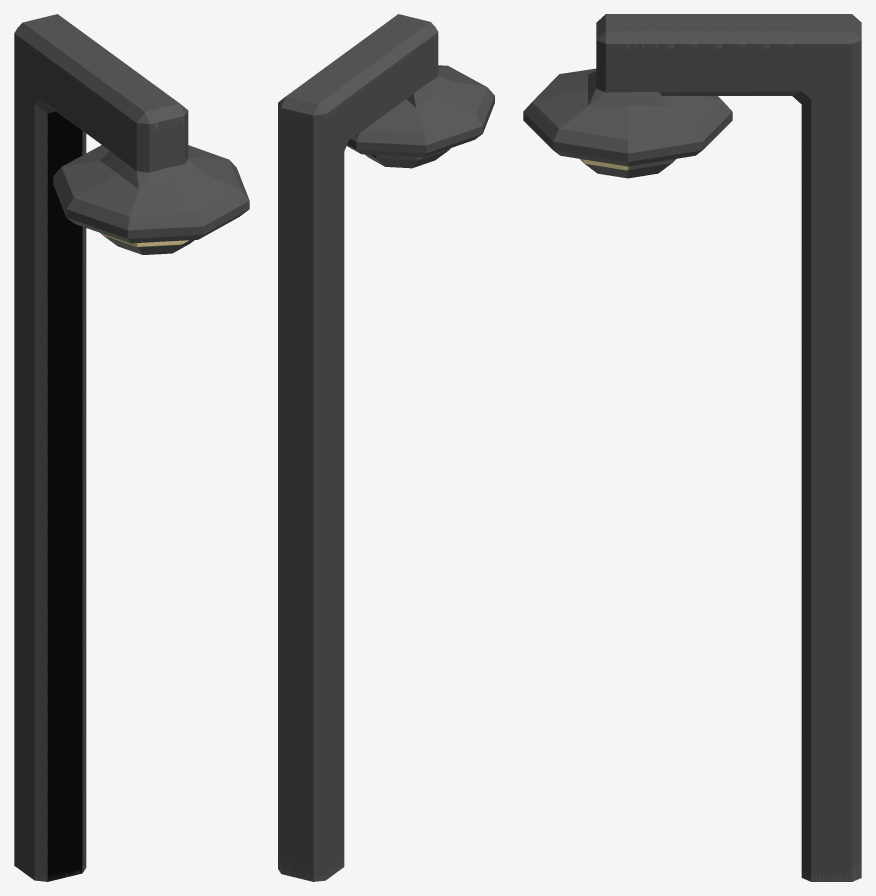
Rendered from lamppostColour.fbx.
3 renders of one model, left to right at view 1: azimuth 30°, elevation 25°; view 2: azimuth 150°, elevation 25°; view 3: azimuth 270°, elevation 25°, orthographic. The views are drawn at different scales.
Parts seen in each view (by area): view 1: node_id5; view 2: node_id5; view 3: node_id5.
Part boxes in pixels (left/top/right/bottom): node_id5: left=14, top=14, right=249, bottom=881; node_id5: left=278, top=14, right=494, bottom=881; node_id5: left=523, top=14, right=861, bottom=881.
Size of the model in its own units: 0.1086 by 0.512 by 0.1856.
1 material, 1 textured.
